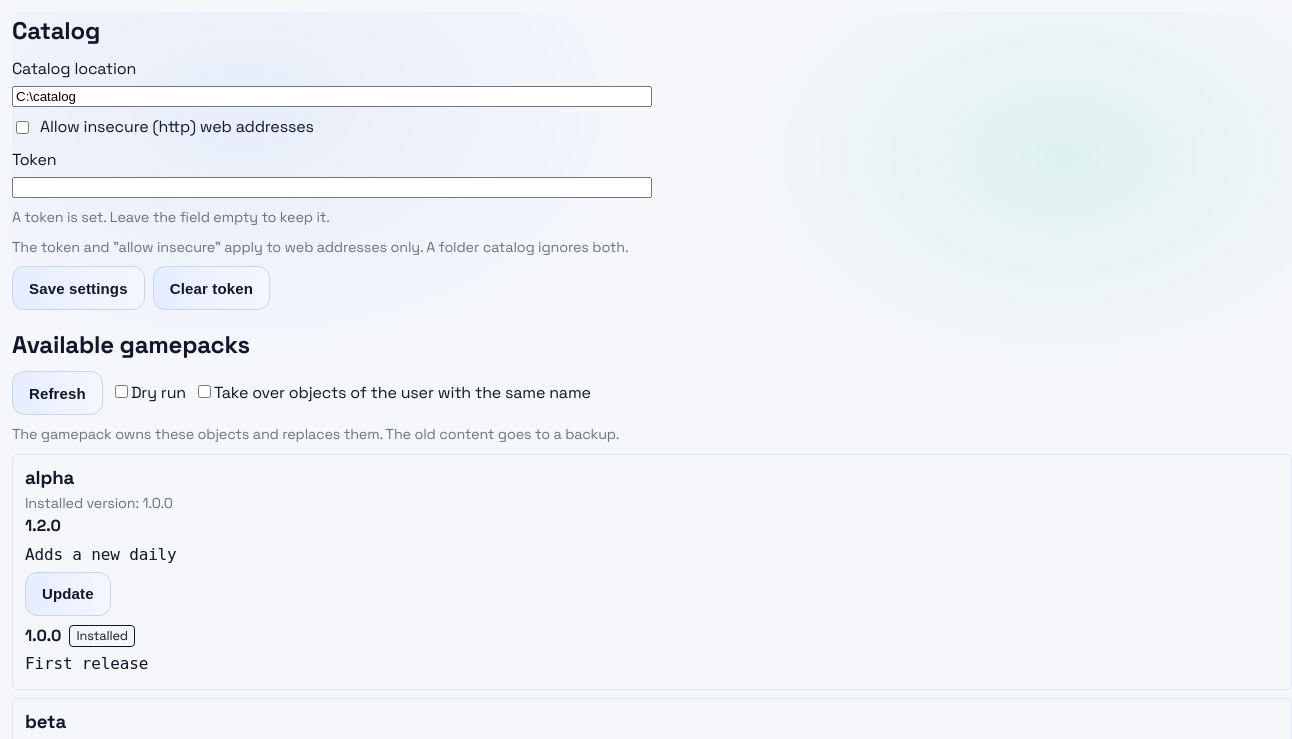
GamepacksPage › shows a plain reason when an install fails
This screenshot has width=1292, height=739.
Click the button with aria-label "Update alpha 1.2.0": (68, 594) [25,572,111,616]
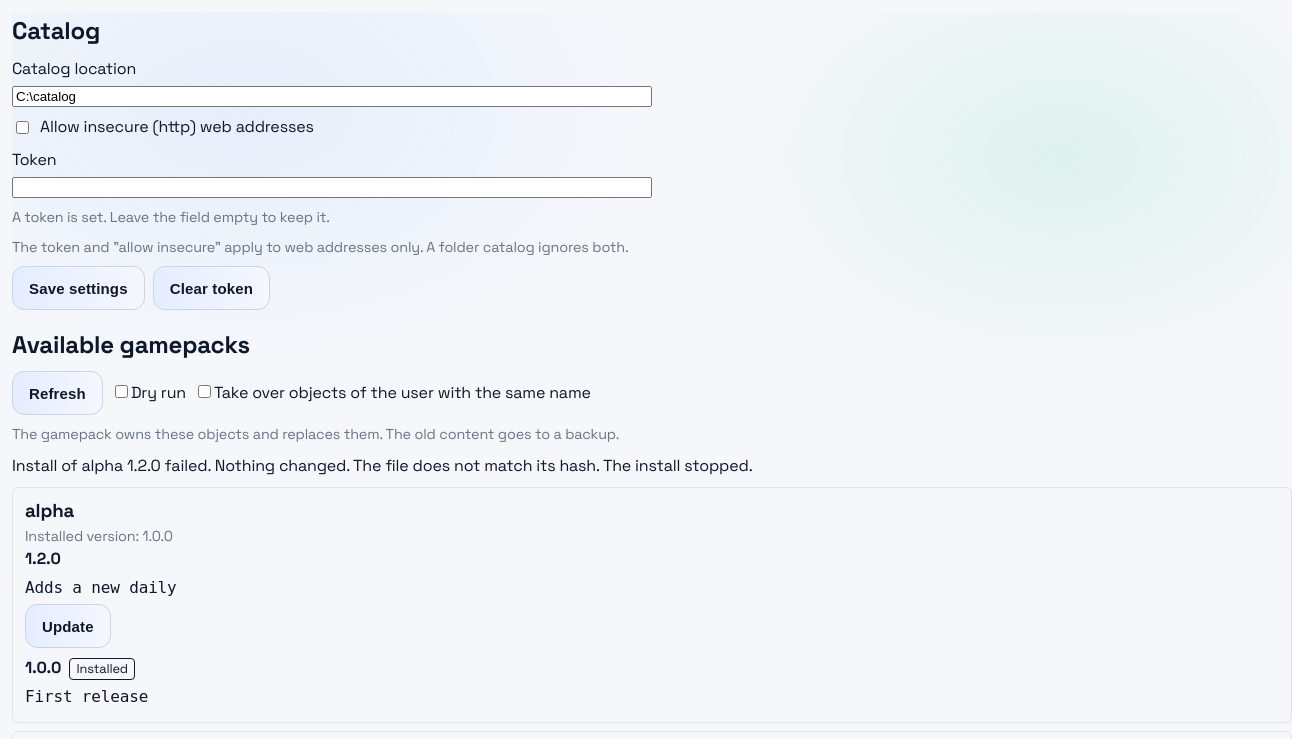
Now the message shows "does not match its hash", box [12,455,753,476]
